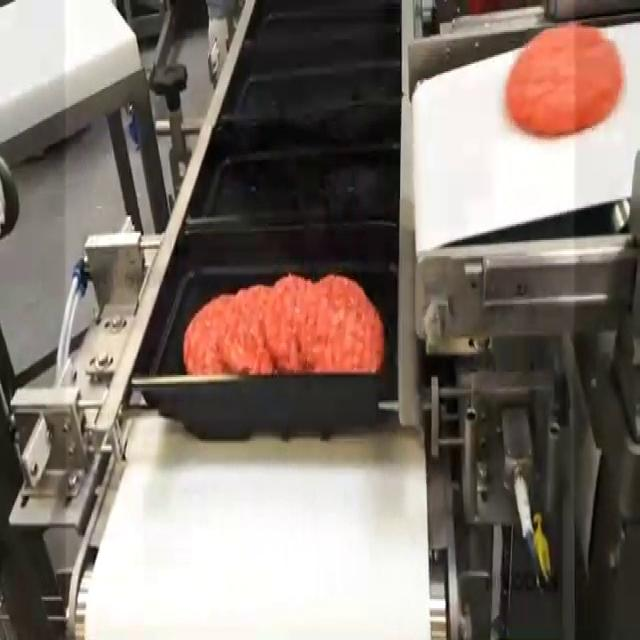4-hamburguer: (182, 274, 384, 373)
